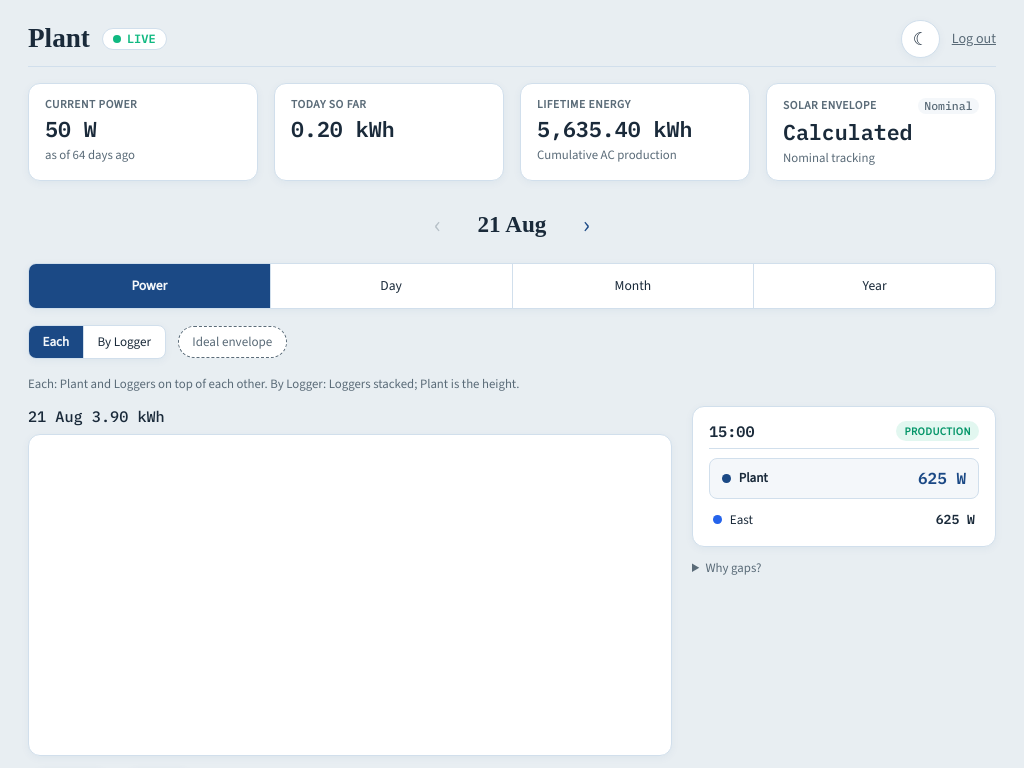
Test: Plant view › hides a Logger band on Time Stack and keeps Overlay Day free of Logger toggles
Click the button "By Logger".
click(124, 342)  # box [84,326,165,358]
(page scrolled)
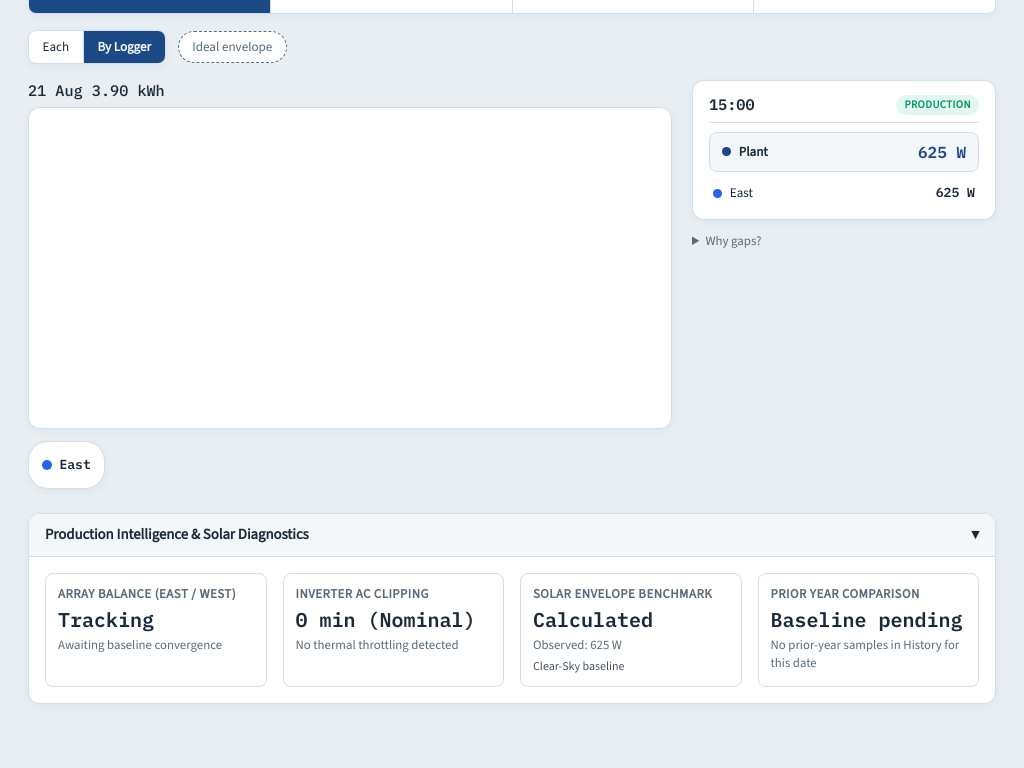
Click the button "East".
click(66, 465)  # box [28,441,105,489]
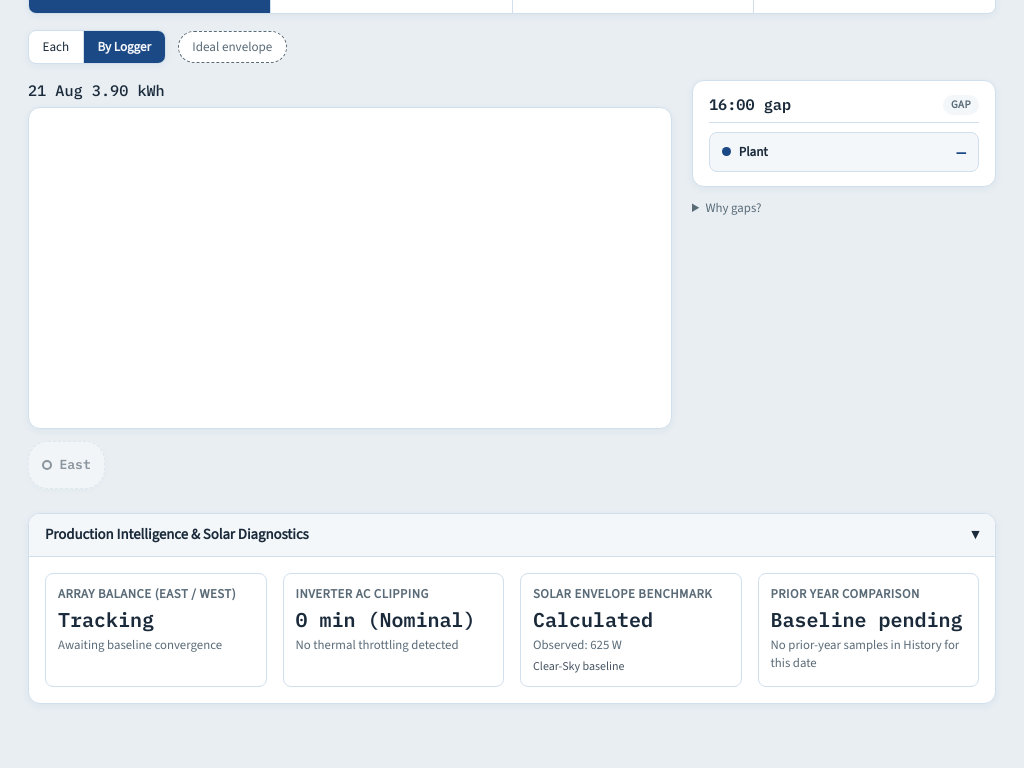
Expected: the text "East 625 W" is gone
